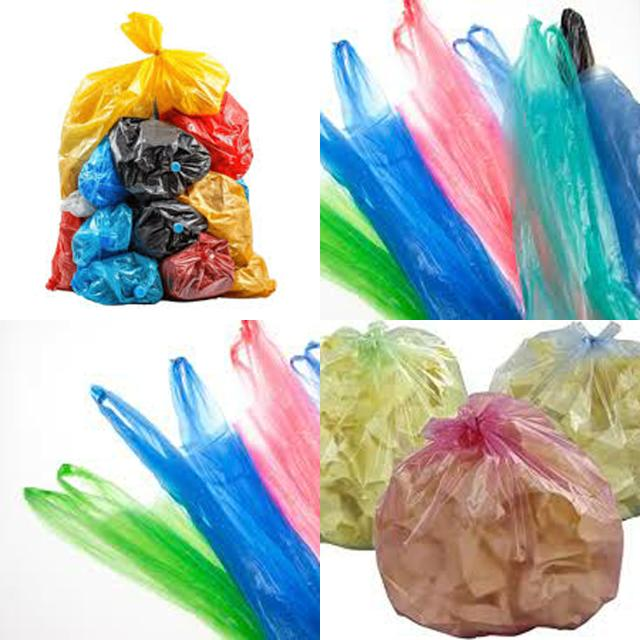Single-layer Plastic: (91, 358, 319, 639), (375, 392, 622, 636), (320, 41, 521, 319), (24, 464, 265, 640), (512, 19, 640, 319), (394, 0, 521, 302), (320, 322, 466, 548), (59, 12, 229, 196), (490, 322, 640, 518), (230, 320, 319, 556), (320, 180, 428, 319), (579, 65, 640, 297), (178, 171, 276, 298), (109, 118, 211, 199), (160, 91, 252, 179), (160, 232, 235, 300), (71, 251, 164, 304), (132, 199, 208, 259), (71, 202, 132, 268), (78, 136, 129, 208)
